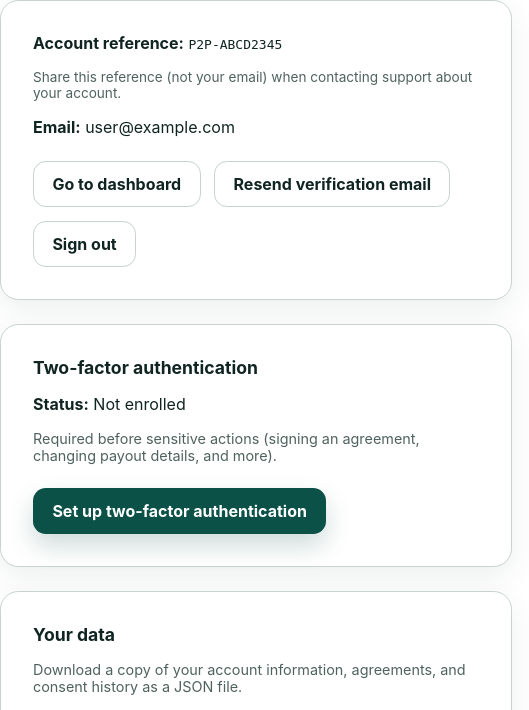
Test: AccountDashboard › Simple Resend Verification Email (Agreement Lifecycle V2 UAT) › shows 'Resend verification email' for an unverified user, and a success message once clicked
The image size is (529, 710).
Click the button "Resend verification email" at [332, 184], box [214,161,450,207]
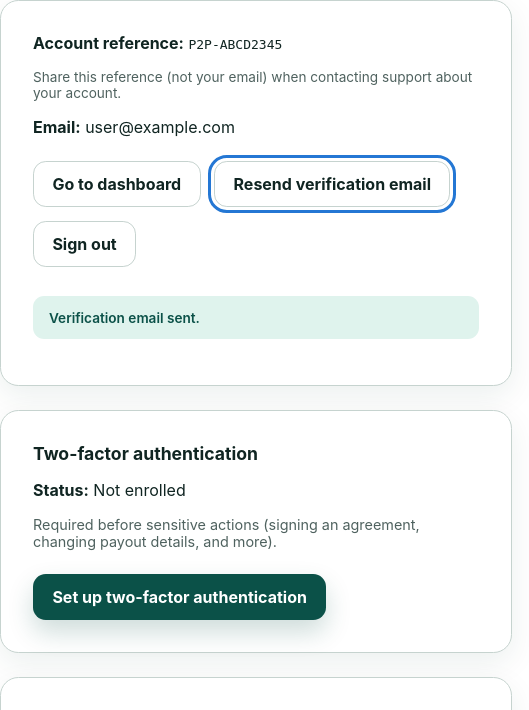
Now the text "Verification email sent." is shown, box [33,296,479,339]
